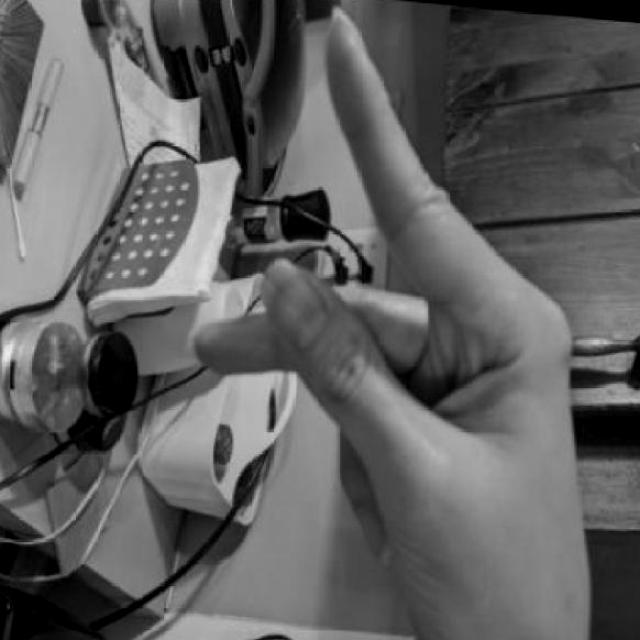P: (179, 1, 617, 640)
